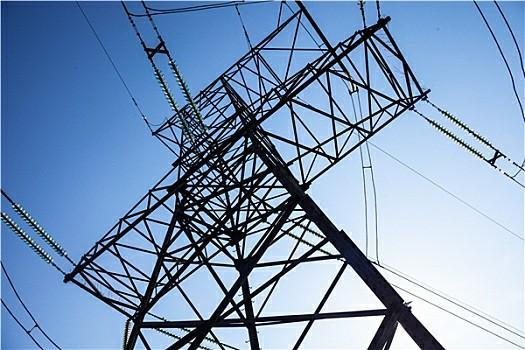power_tower: (68, 6, 454, 350)
